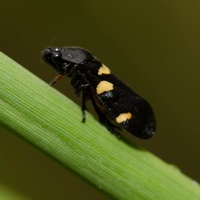insect: (42, 47, 155, 138)
